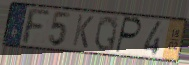4: (141, 20, 165, 57)
5: (48, 10, 72, 48)
F: (22, 6, 52, 46)
K: (71, 13, 95, 50)
P: (114, 16, 143, 55)
Q: (93, 15, 119, 54)
